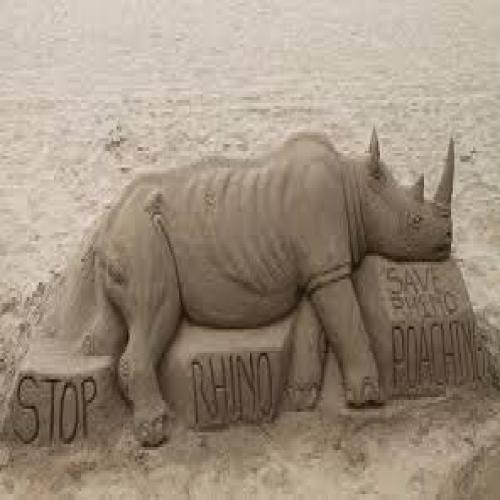rhino-endangered: (94, 124, 458, 447)
